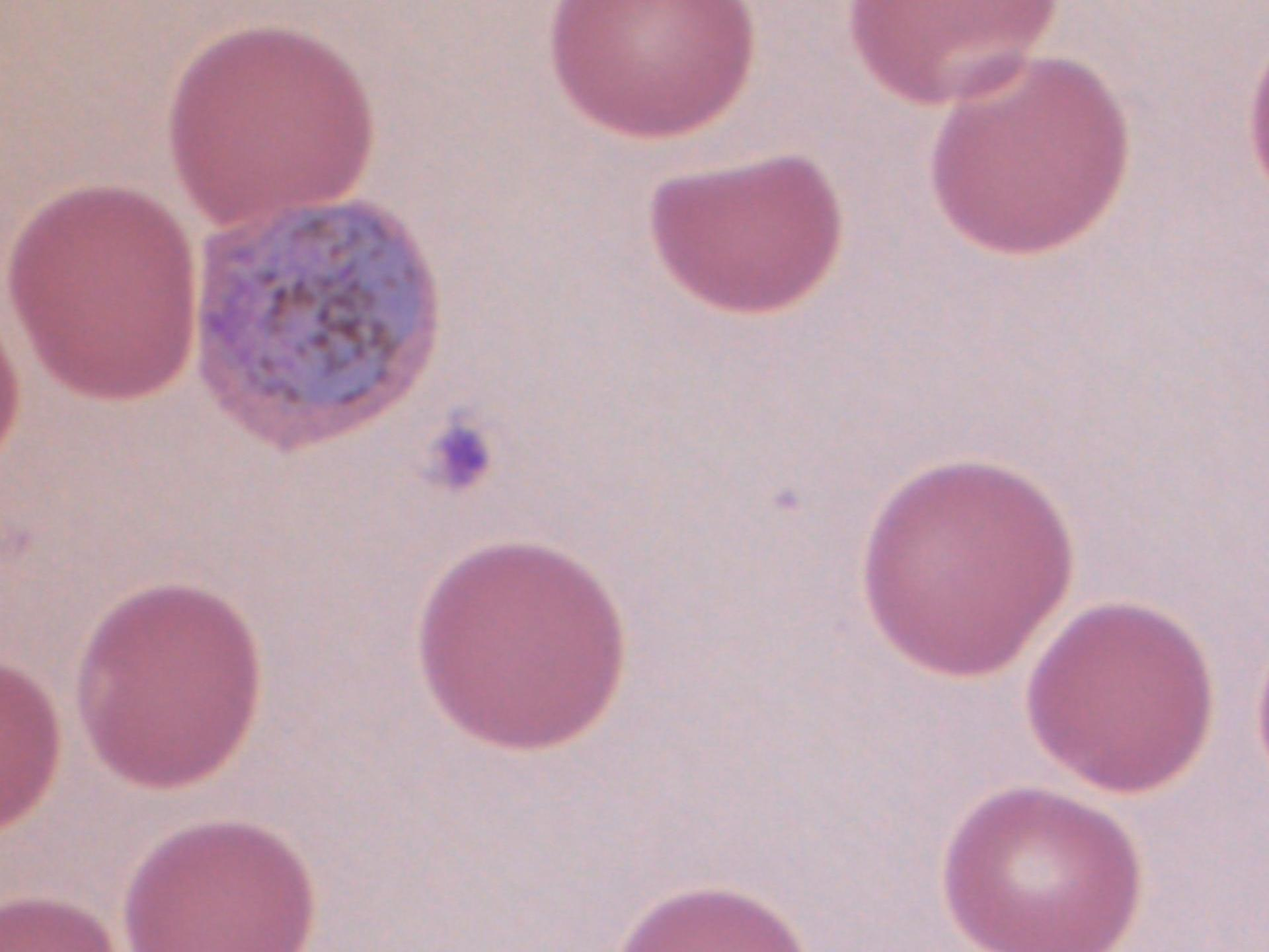Infected: (198, 195, 441, 454)
Uninfected: (868, 463, 1071, 677), (419, 545, 624, 748), (9, 188, 191, 404), (932, 58, 1129, 257), (176, 27, 373, 219), (1027, 606, 1212, 790), (84, 593, 256, 787), (947, 791, 1137, 952), (652, 155, 840, 310), (549, 0, 752, 132)
